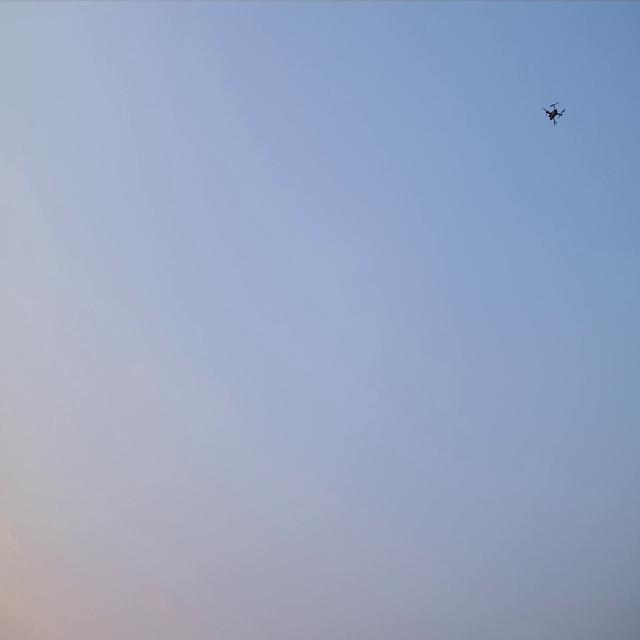UAV: (546, 104, 564, 125)
